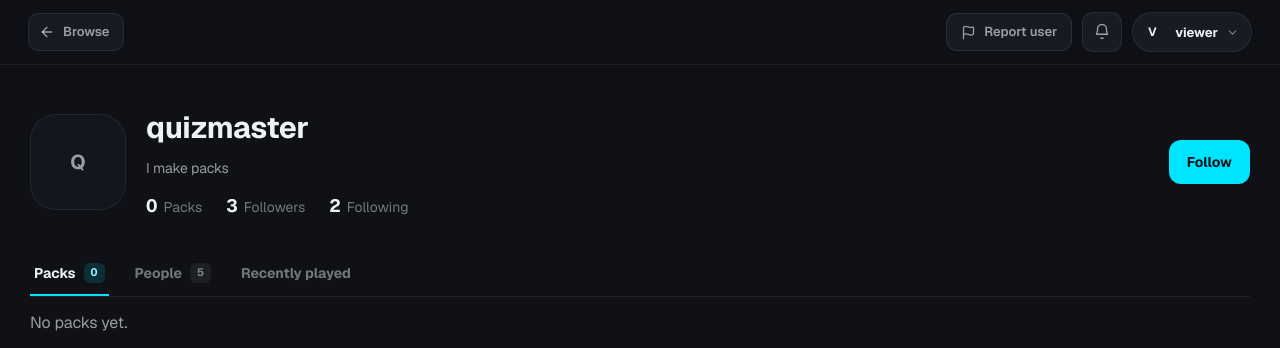
AuthorScreen › toggles Follow to Following and updates the follower count on click
Expected: the text "quizmaster" is shown, [146,105,309,150]
Click the button "Follow": click(1209, 162) [1169,140,1250,184]
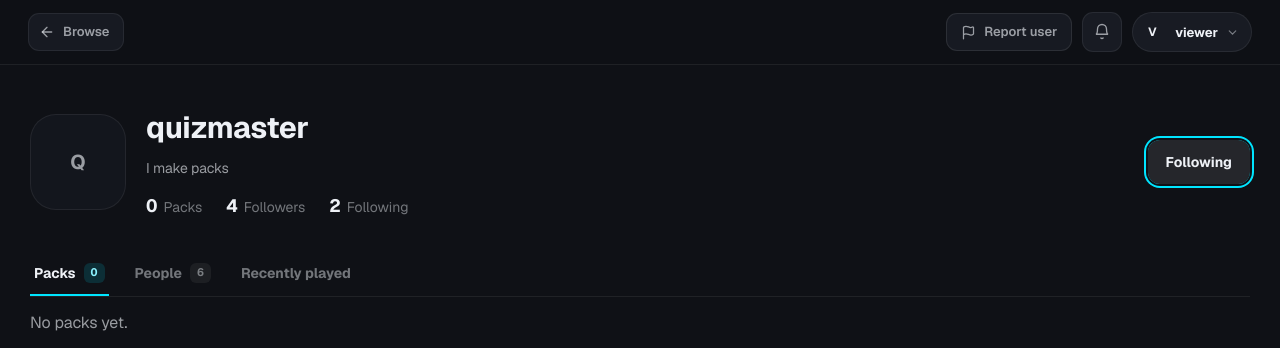
Result: the button "Following" is shown at [1148,140,1250,184]
Result: the text "4" is shown at [226,192,238,220]
